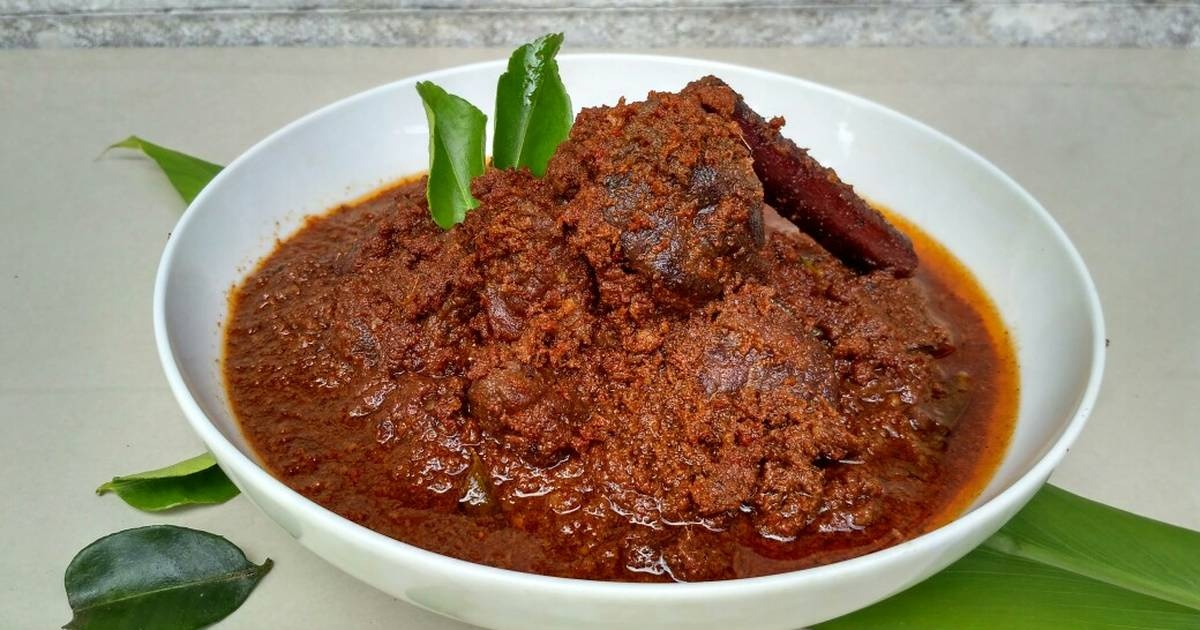Rendang: (227, 74, 997, 587)
